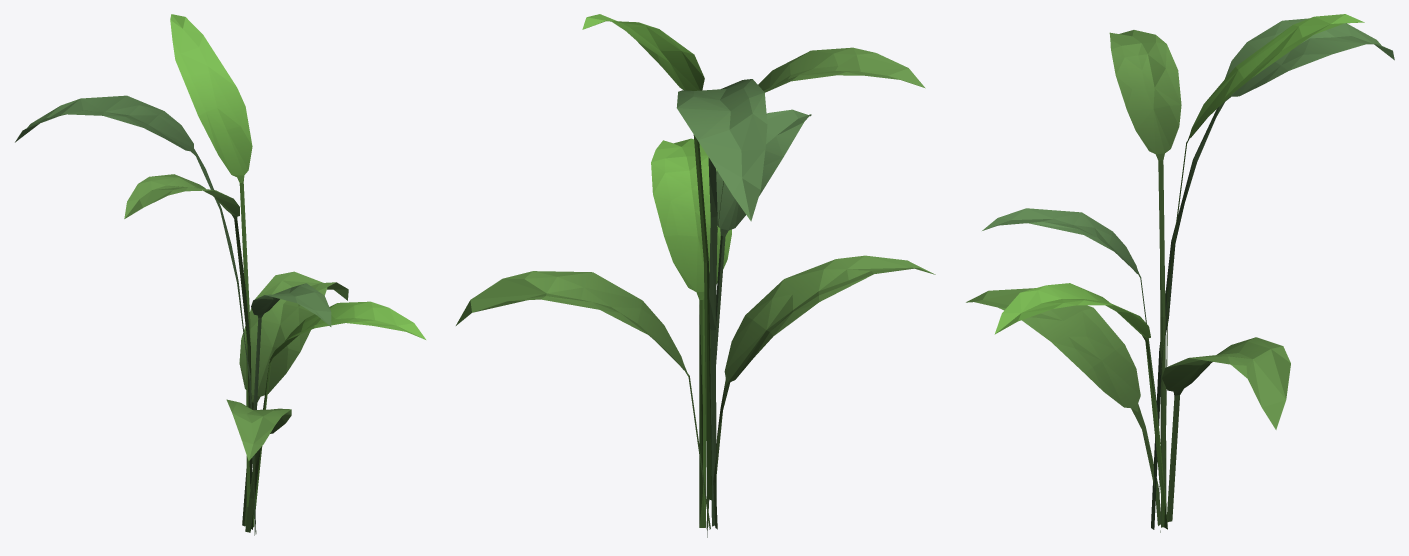
Rendered from Jungle_TallLeaf_D.fbx.
3 views of the same model, side by side, from view 1: azimuth 30°, elevation 25°; view 2: azimuth 150°, elevation 25°; view 3: azimuth 270°, elevation 25° (orthographic). The views are drawn at different scales.
Visible parts, largest first — view 1: Jungle_TallLeaf_D; view 2: Jungle_TallLeaf_D; view 3: Jungle_TallLeaf_D.
Boxes of the visible parts, x1=… form: Jungle_TallLeaf_D: x1=15, y1=14, x2=425, y2=535; Jungle_TallLeaf_D: x1=456, y1=14, x2=935, y2=537; Jungle_TallLeaf_D: x1=966, y1=14, x2=1394, y2=532.
Bounding box in the file's own units: 1.78 × 2.68 × 1.98.
